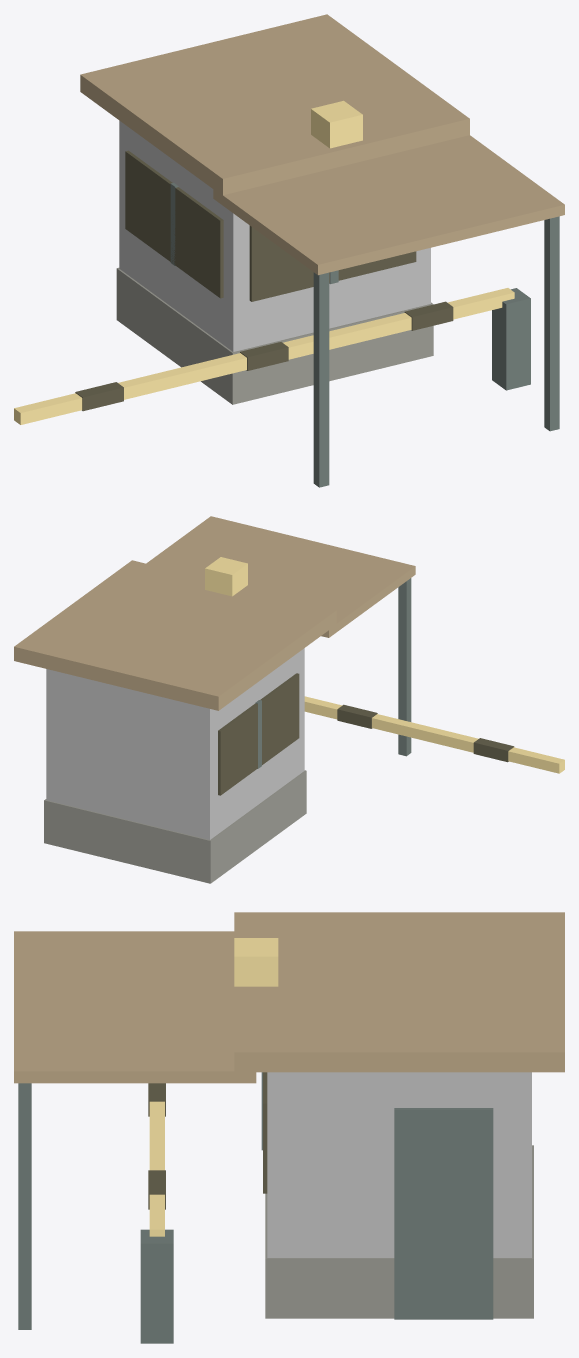
Rendered from SM_Garita_v3_LOD0.fbx.
The picture shows the model from 3 angles, top to bottom: view 1: azimuth 30°, elevation 25°; view 2: azimuth 150°, elevation 25°; view 3: azimuth 270°, elevation 25°; orthographic projection. The views are drawn at different scales.
Parts seen in each view (by area): view 1: SM_garita_v3_LOD0, Barrera; view 2: SM_garita_v3_LOD0, Barrera; view 3: SM_garita_v3_LOD0, Barrera.
Part boxes in pixels (box(x1,y1,x2,y2)): SM_garita_v3_LOD0: box(80, 14, 564, 487); Barrera: box(14, 288, 514, 424); SM_garita_v3_LOD0: box(14, 516, 415, 883); Barrera: box(304, 696, 564, 773); SM_garita_v3_LOD0: box(14, 912, 564, 1343); Barrera: box(148, 1083, 165, 1236).
Bounding box in the file's own units: 6.15 × 3.15 × 5.
